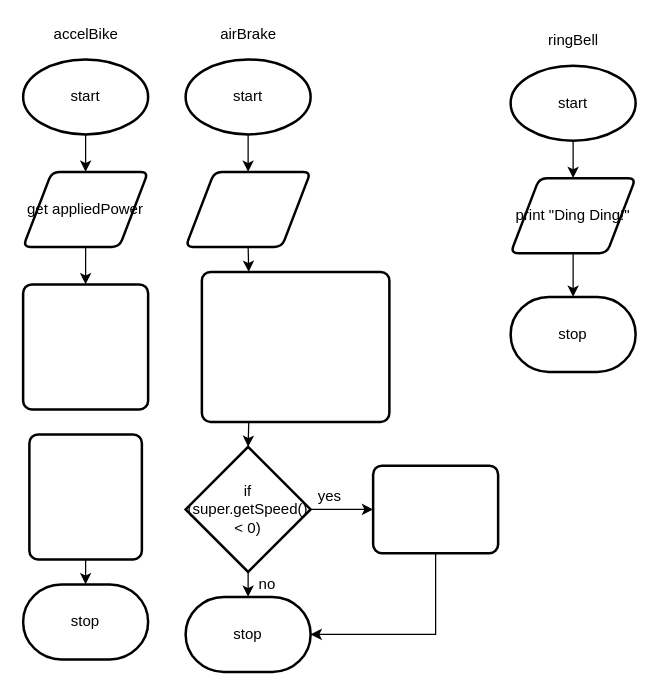
Image size: 658x694. Some labels were removed from this diagram. The centre of each missing label's shape, as x and y in pixels:
"get airPressure" belongs at [247,209].
"setSpeed(super.getSpeed() - airPressure / 2)" belongs at [295,346].
"super.setSpeed( this.cadence * 2)" belongs at [85,496].
"super.setSpeed(0)" belongs at [435,509].
"this.cadence = this.cadence + appliedPower" belongs at [85,346].
